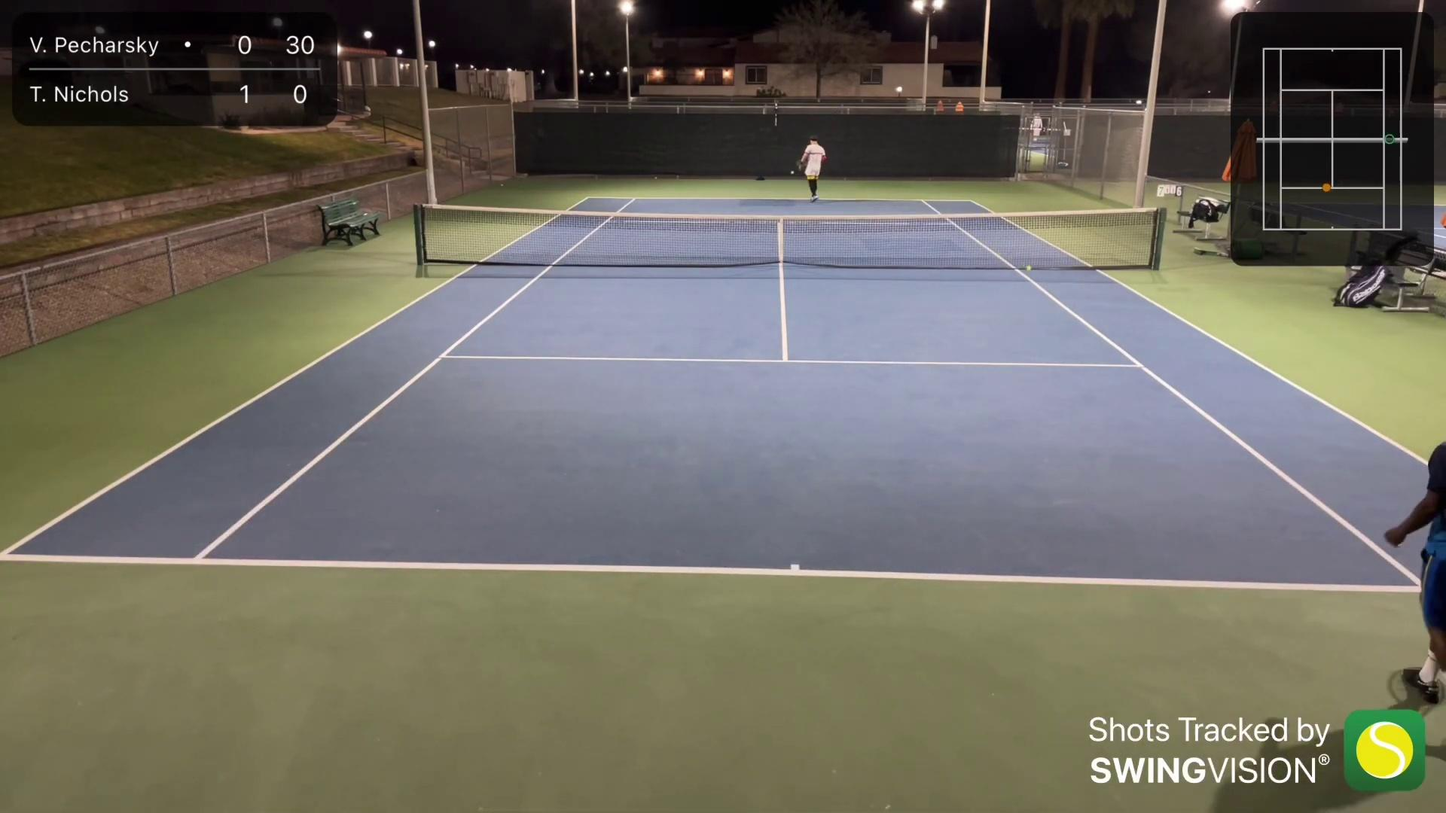ball: (1025, 264, 1032, 271)
